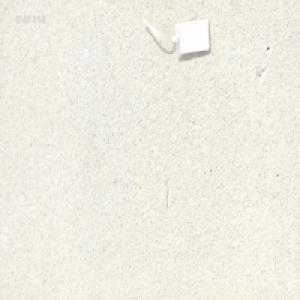LuggageTag: (139, 11, 212, 58)
